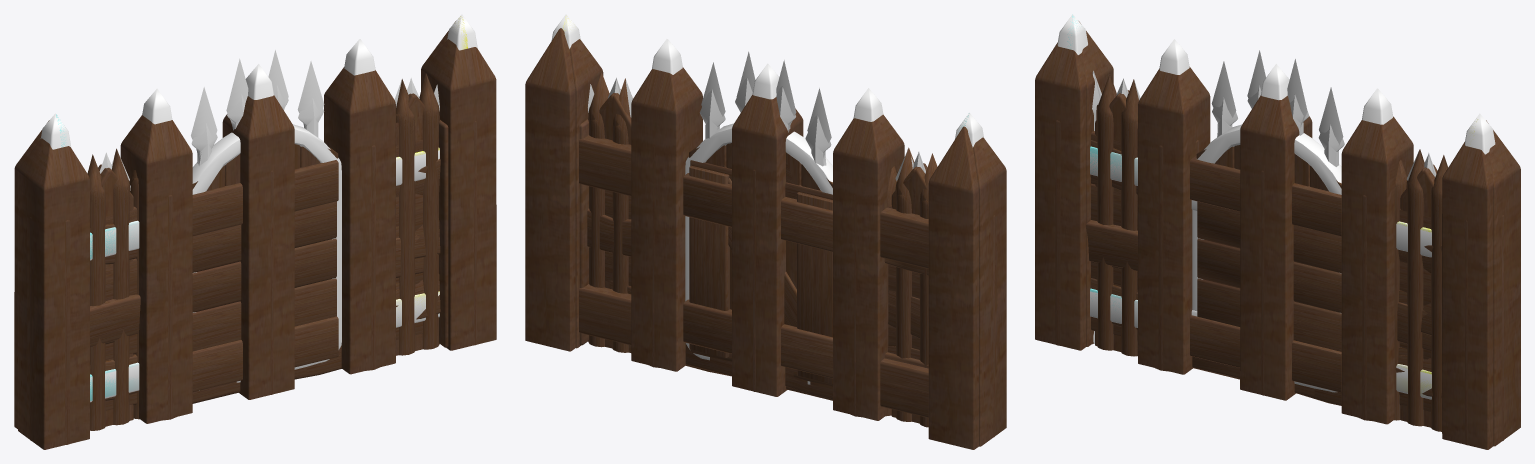
The model's file is Fence-Gates.fbx.
3 views of the same model, side by side, from view 1: azimuth 30°, elevation 25°; view 2: azimuth 150°, elevation 25°; view 3: azimuth 330°, elevation 25° (orthographic).
Parts seen in each view (by area): view 1: Fence 06 Posts, Fence 05 SA. Opening, Fence Gate 02, Fence 07 Opening, FPost 04, Fence 05 W Opening, Fence 02 SA Opening, Fence Gate 03, Fence 03 SA. Opening, Fence 06 Posts W, Fence 15 SA Opening, Fence Gate 04 (+15 smaller); view 2: Fence 05 SA. Opening, Fence 06 SA Opening, Fence 05 W Opening, FPost 04, Fence Gate 01, Fence 06 W Opening, Fence Gate 02, Fence 06 Posts, Fence 07 Opening, Fence Gate 03, Fence 03 SA. Opening, Fence 02 Trad Opening (+11 smaller); view 3: Fence 06 Posts, Fence 05 SA. Opening, Fence 05 W Opening, Fence Gate 02, Fence 07 Opening, FPost 04, Fence 06 SA Opening, Fence 03 SA. Opening, Fence Gate 03, Fence 15 SA Opening, Fence 02 SA Opening, Fence Gate 04 (+13 smaller).
Part boxes in pixels (bbox=[...]): Fence 06 Posts: bbox=[18, 39, 496, 449]; Fence 05 SA. Opening: bbox=[27, 67, 414, 442]; Fence Gate 02: bbox=[192, 160, 338, 392]; Fence 07 Opening: bbox=[87, 73, 439, 430]; FPost 04: bbox=[222, 95, 294, 399]; Fence 05 W Opening: bbox=[102, 93, 422, 426]; Fence 02 SA Opening: bbox=[90, 120, 448, 347]; Fence Gate 03: bbox=[191, 85, 341, 382]; Fence 03 SA. Opening: bbox=[68, 121, 476, 444]; Fence 06 Posts W: bbox=[63, 49, 475, 442]; Fence 15 SA Opening: bbox=[90, 15, 474, 402]; Fence Gate 04: bbox=[191, 50, 341, 390]; Fence 05 SA. Opening: bbox=[584, 67, 997, 438]; Fence 06 SA Opening: bbox=[525, 28, 978, 449]; Fence 05 W Opening: bbox=[579, 89, 928, 420]; FPost 04: bbox=[732, 94, 803, 396]; Fence Gate 01: bbox=[683, 143, 832, 378]; Fence 06 W Opening: bbox=[547, 29, 963, 444]; Fence Gate 02: bbox=[689, 160, 832, 386]; Fence 06 Posts: bbox=[569, 39, 1006, 446]; Fence 07 Opening: bbox=[588, 72, 937, 427]; Fence Gate 03: bbox=[685, 78, 832, 384]; Fence 03 SA. Opening: bbox=[605, 145, 919, 417]; Fence 02 Trad Opening: bbox=[587, 208, 919, 359]; Fence 06 Posts: bbox=[1035, 42, 1493, 449]; Fence 05 SA. Opening: bbox=[1095, 67, 1425, 424]; Fence 05 W Opening: bbox=[1110, 67, 1431, 427]; Fence Gate 02: bbox=[1190, 155, 1341, 392]; Fence 07 Opening: bbox=[1092, 73, 1448, 431]; FPost 04: bbox=[1240, 95, 1312, 400]; Fence 06 SA Opening: bbox=[1079, 21, 1520, 446]; Fence 03 SA. Opening: bbox=[1058, 121, 1503, 445]; Fence Gate 03: bbox=[1192, 85, 1344, 392]; Fence 15 SA Opening: bbox=[1090, 39, 1482, 398]; Fence 02 SA Opening: bbox=[1086, 214, 1442, 433]; Fence Gate 04: bbox=[1192, 50, 1343, 391].
Size of the model in its own units: 3.36 by 2.34 by 0.4126.
